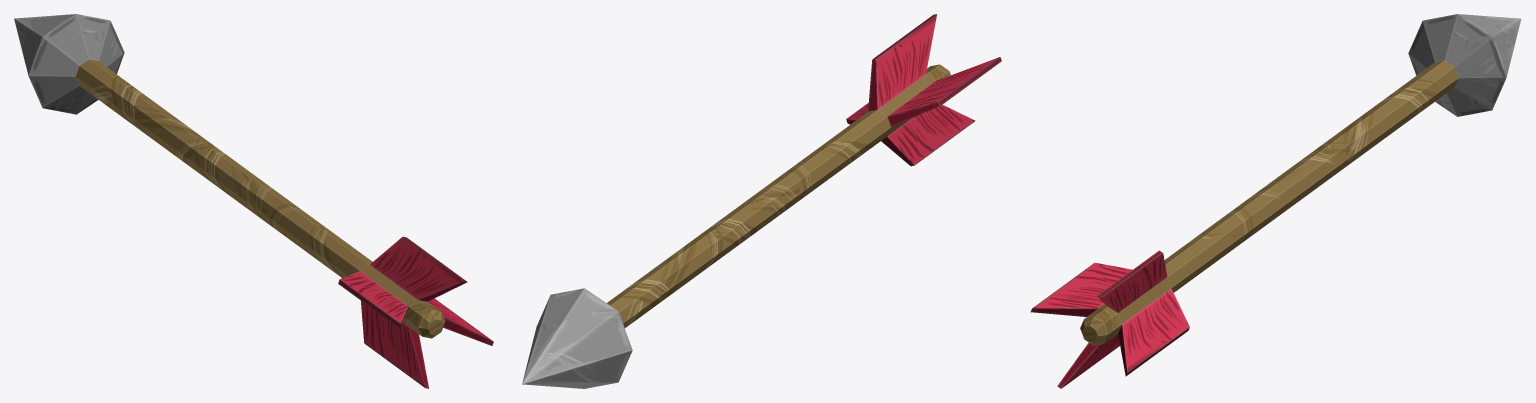
The model's file is Arrow.glb.
3 views of the same model, side by side, from view 1: azimuth 30°, elevation 25°; view 2: azimuth 150°, elevation 25°; view 3: azimuth 330°, elevation 25° (orthographic). The views are drawn at different scales.
Parts seen in each view (by area): view 1: Cylinder; view 2: Cylinder; view 3: Cylinder.
Boxes of the visible parts, left/top/right/bottom form: Cylinder: left=14, top=14, right=493, bottom=388; Cylinder: left=522, top=14, right=1001, bottom=388; Cylinder: left=1030, top=14, right=1521, bottom=388.
Bounding box in the file's own units: 1.37 × 1.37 × 10.69.
1 material, 1 textured.
